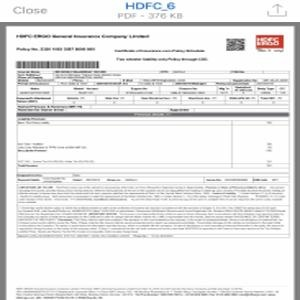image: (252, 33, 285, 53)
table: (16, 116, 291, 180), (15, 67, 290, 112)
text: (15, 183, 287, 238), (16, 32, 153, 44)
